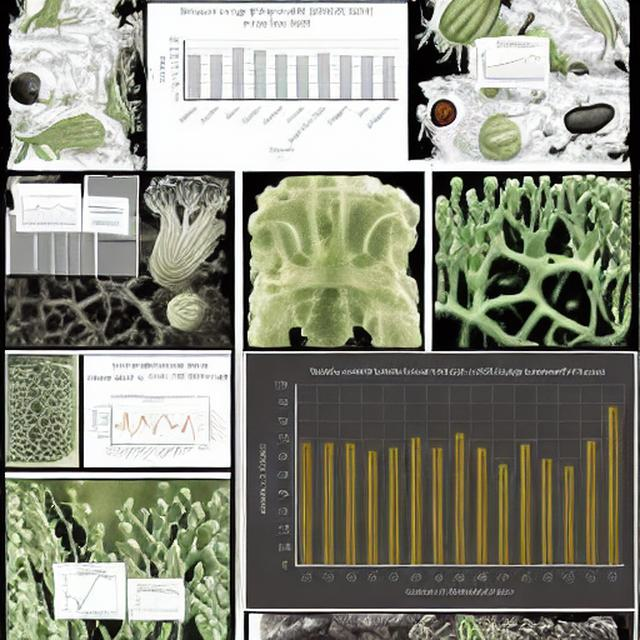Graph: (247, 354, 635, 608), (152, 4, 404, 158), (90, 393, 199, 466), (60, 569, 123, 616), (476, 46, 547, 86), (18, 194, 78, 229)
